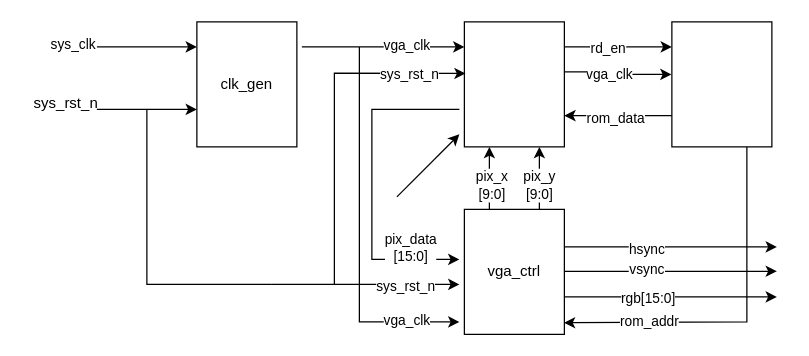
Image size: 809x356. Some labels were removed from this diagram. The centre of each missing label's shape, as x and y in pixels:
ROM: pixel 721 84
vga_pic: pixel 513 84
